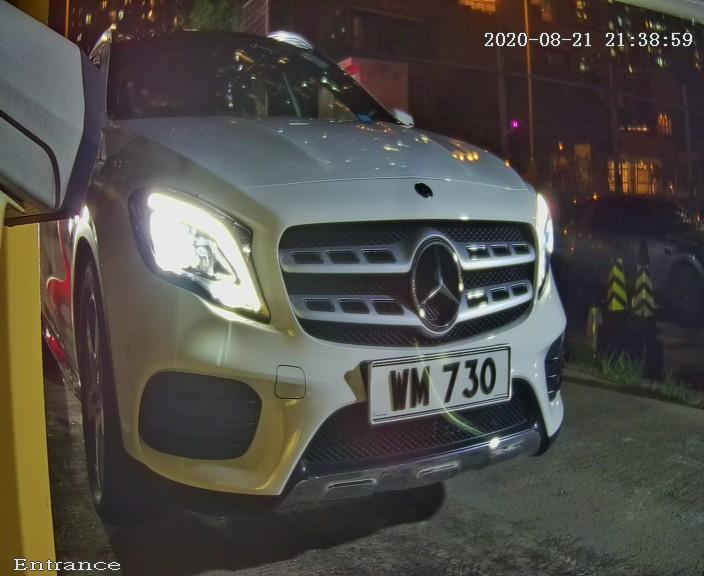License Plate: (356, 335, 529, 427)
